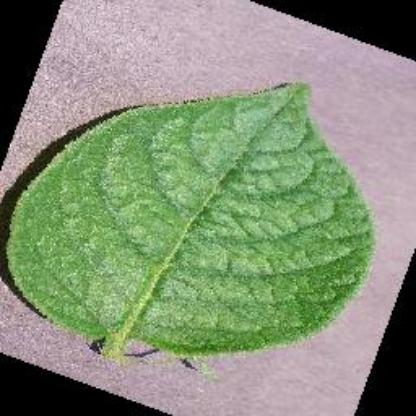Healthy-plant: (1, 82, 379, 362)
